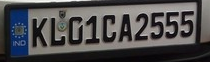0: (68, 16, 84, 45)
1: (85, 15, 101, 43)
2: (135, 12, 149, 41)
5: (150, 11, 166, 39), (165, 11, 180, 39), (180, 10, 195, 38)
A: (119, 13, 134, 42)
C: (102, 13, 117, 44)
K: (31, 17, 48, 47)
L: (50, 17, 66, 47)
